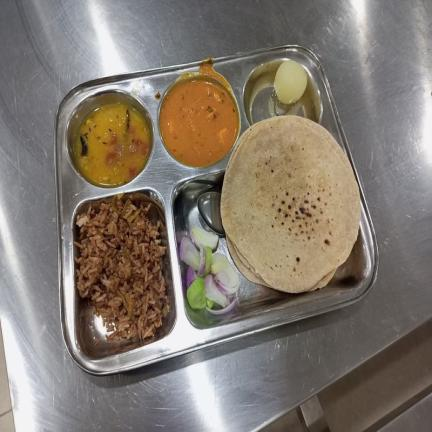Chana Dal: (76, 102, 150, 184)
Chhaina: (274, 60, 308, 105)
Fried Rice: (75, 192, 170, 343)
Paneer: (159, 78, 238, 167)
Plate: (53, 43, 379, 373)
Roti: (220, 113, 362, 293)
Salad: (179, 222, 243, 315)
